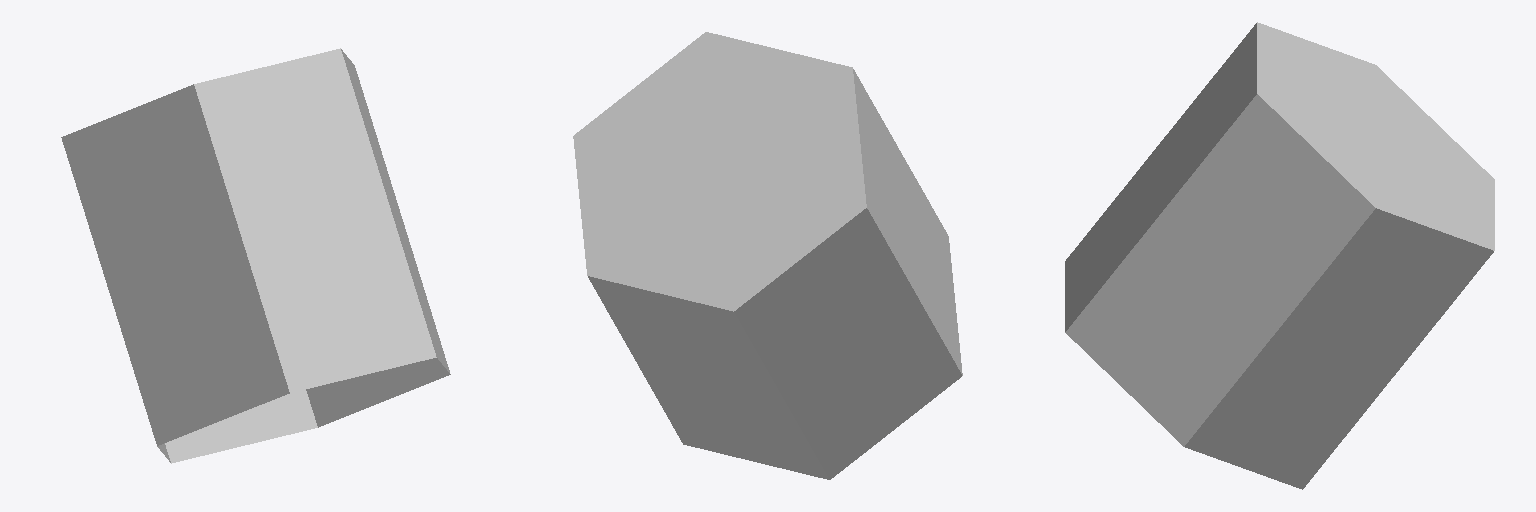
3 views of the same model, side by side, from view 1: azimuth 30°, elevation 25°; view 2: azimuth 150°, elevation 25°; view 3: azimuth 270°, elevation 25° (orthographic).
Parts seen in each view (by area): view 1: Cy27; view 2: Cy27; view 3: Cy27.
Part boxes in pixels (x1,y1,x2,y2): Cy27: (61, 48, 450, 463); Cy27: (573, 32, 962, 479); Cy27: (1065, 22, 1494, 489).
Bounding box in the file's own units: 8.31 × 10.71 × 10.53.